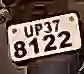1: (28, 36, 43, 55)
2: (57, 28, 73, 49), (43, 35, 56, 53)
3: (44, 19, 53, 34)
7: (52, 18, 61, 34)
8: (14, 40, 28, 60)
P: (33, 22, 43, 37)
U: (22, 24, 33, 39)
